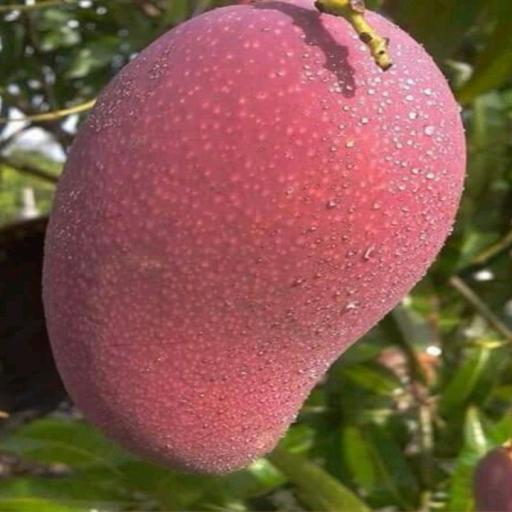mango: (44, 0, 465, 472)
